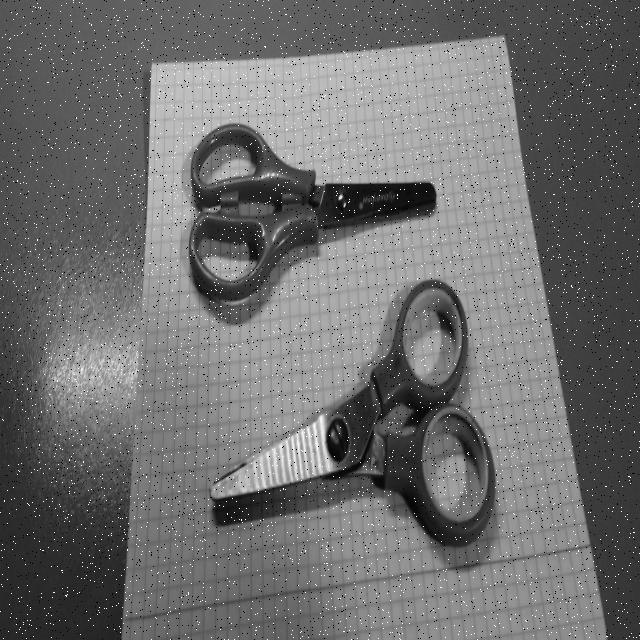scissors: (208, 280, 498, 550), (187, 116, 440, 306)
